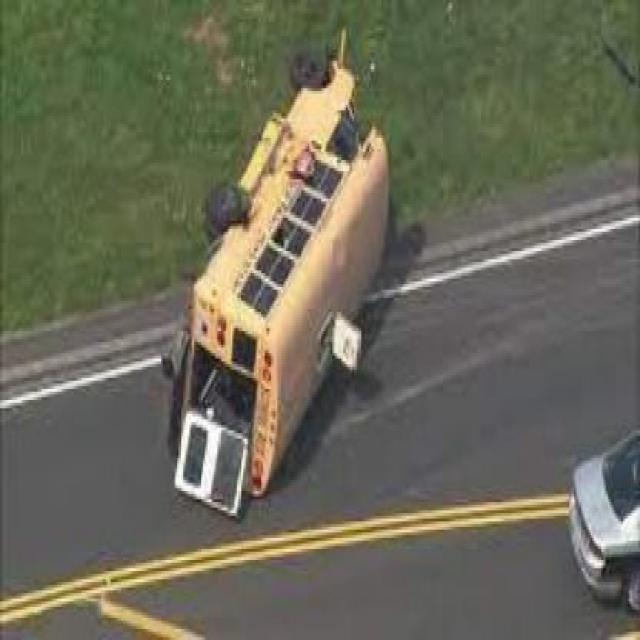accident: (161, 8, 394, 510)
